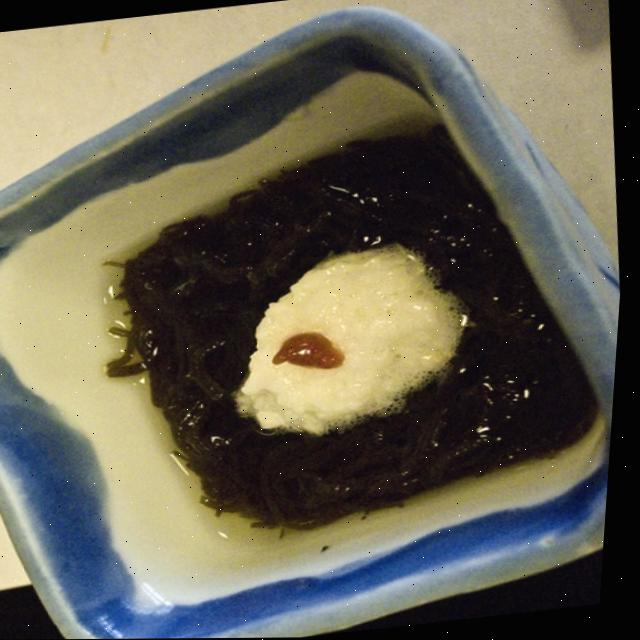蔬菜料理: (0, 30, 638, 640)
